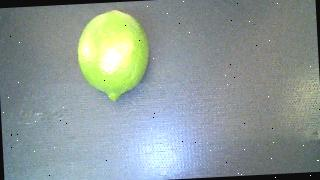EXPORTACION: (76, 9, 152, 103)
